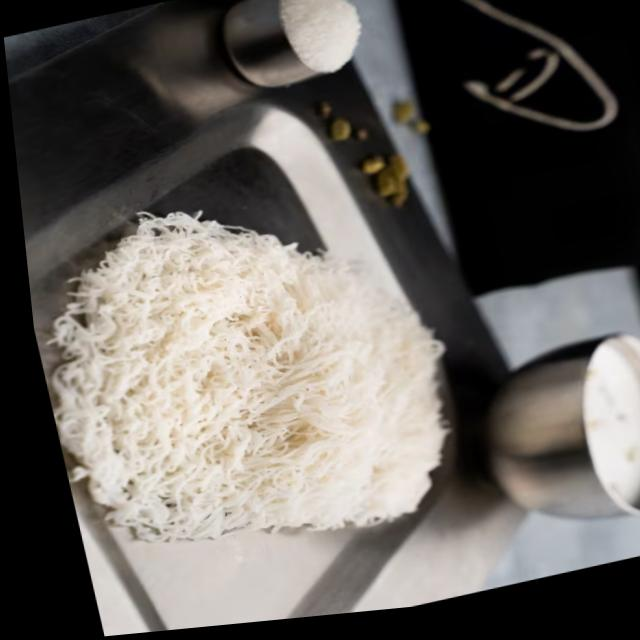IDIYAPPAM: (57, 214, 445, 541)
